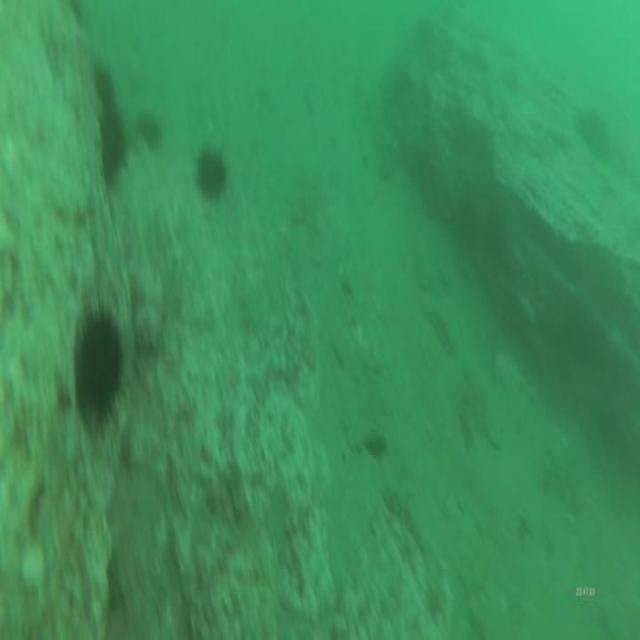echinus: (75, 302, 126, 426), (95, 101, 128, 193), (194, 139, 229, 204), (577, 100, 611, 161), (88, 57, 116, 114), (134, 106, 164, 155)
holothurian: (380, 483, 431, 569), (425, 302, 455, 357)
